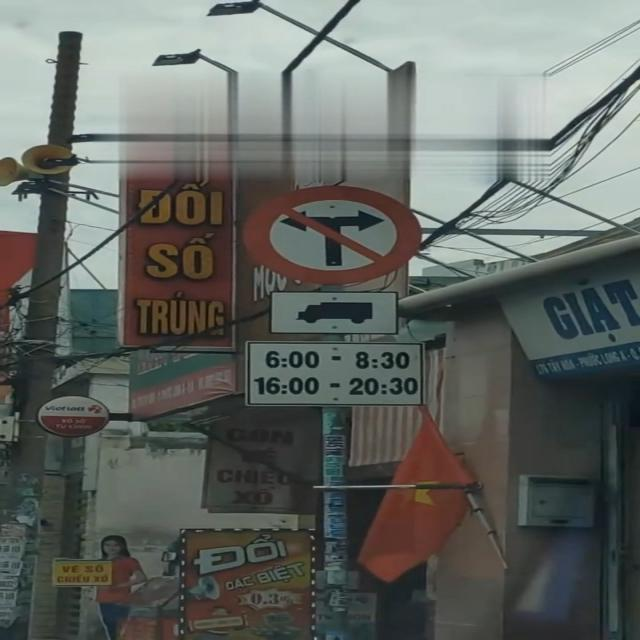137-cam-re-trai-va-re-phai: (237, 184, 428, 284)
